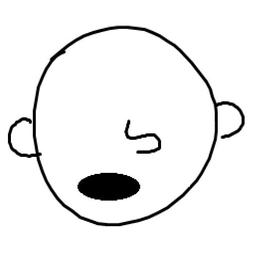ear: (5, 113, 43, 167), (209, 97, 250, 142)
nose: (120, 107, 172, 158)
open_mouth: (67, 164, 147, 209)
